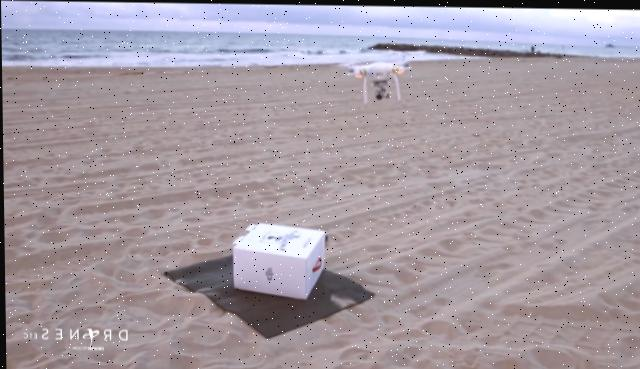drone: (337, 56, 413, 104)
